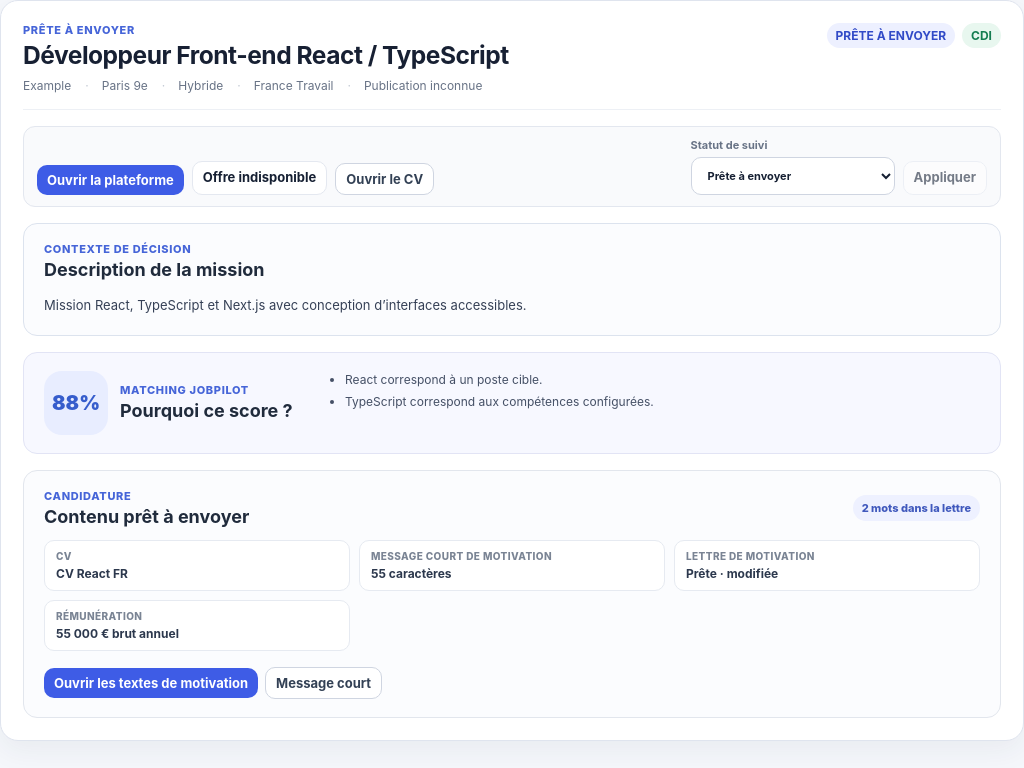
it: ReviewQueueApplicationCard › resets a manual cover letter to the latest generated version from the drawer
Click the button "Ouvrir les textes de motivation" at (151, 683), box [44, 668, 258, 698]
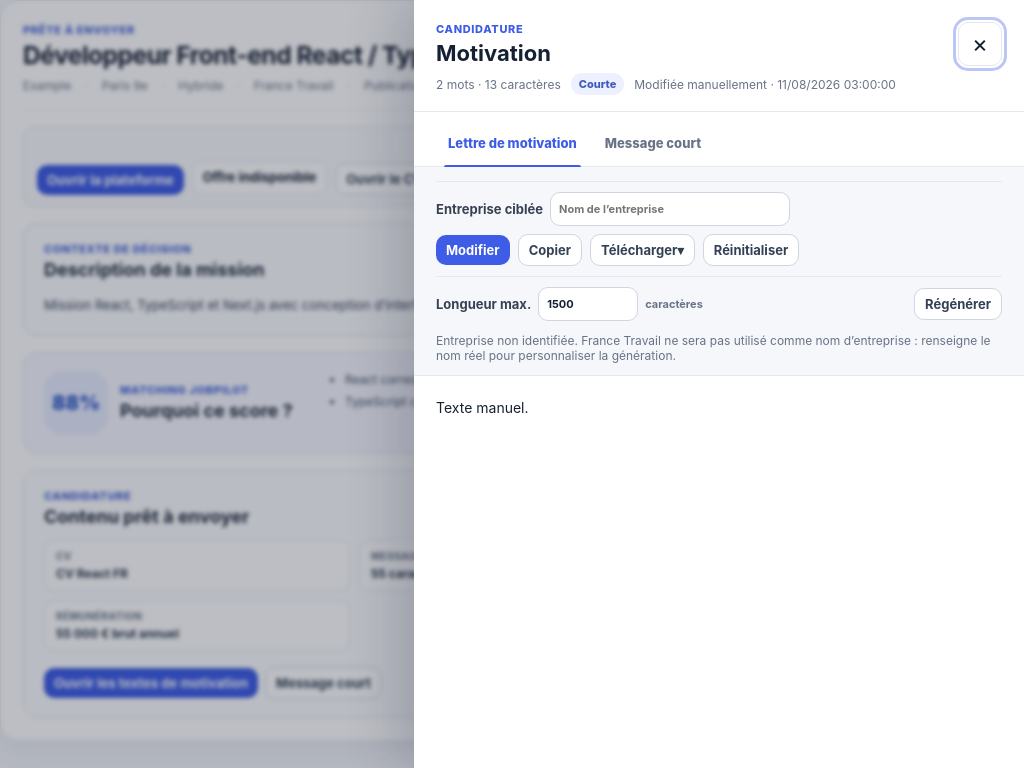
Click the button "Réinitialiser" at (751, 250), box [703, 234, 799, 266]
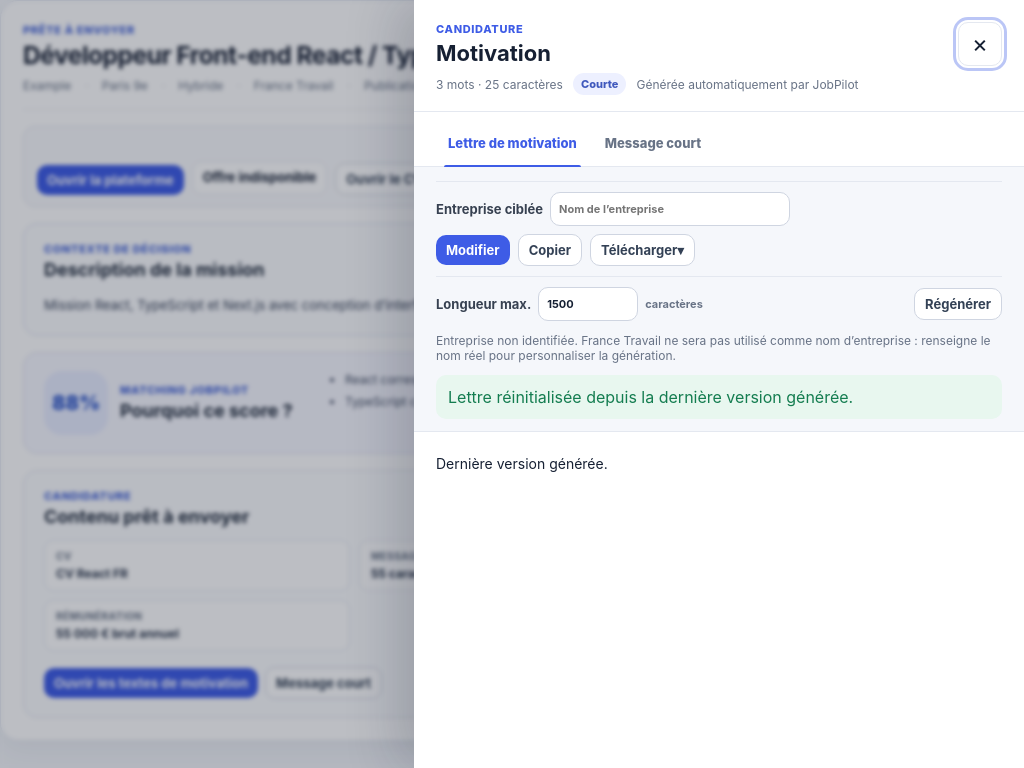
Result: the text "Dernière version générée." is shown at [436, 455, 608, 472]
Result: the text "Générée automatiquement par JobPilot" is shown at [636, 77, 859, 92]
